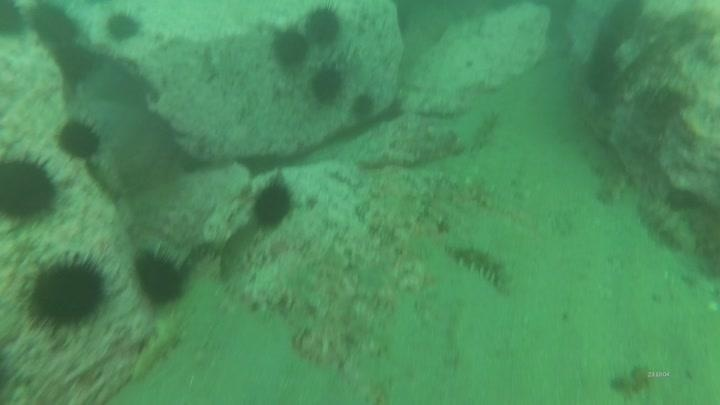echinus: (24, 251, 111, 334), (1, 150, 61, 226), (130, 245, 192, 309), (27, 3, 82, 50), (249, 180, 295, 231), (55, 117, 104, 162), (50, 41, 97, 86), (301, 4, 345, 47), (269, 27, 311, 69), (307, 63, 346, 106), (103, 10, 144, 45), (1, 1, 27, 42), (348, 91, 378, 121)
holothurian: (128, 311, 186, 383), (636, 192, 699, 255), (444, 239, 515, 293), (582, 143, 636, 213)
